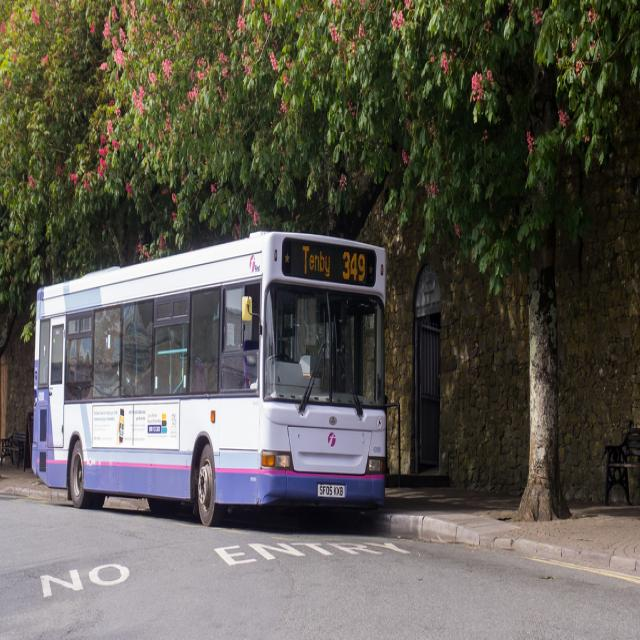Buses: (32, 235, 389, 530)
